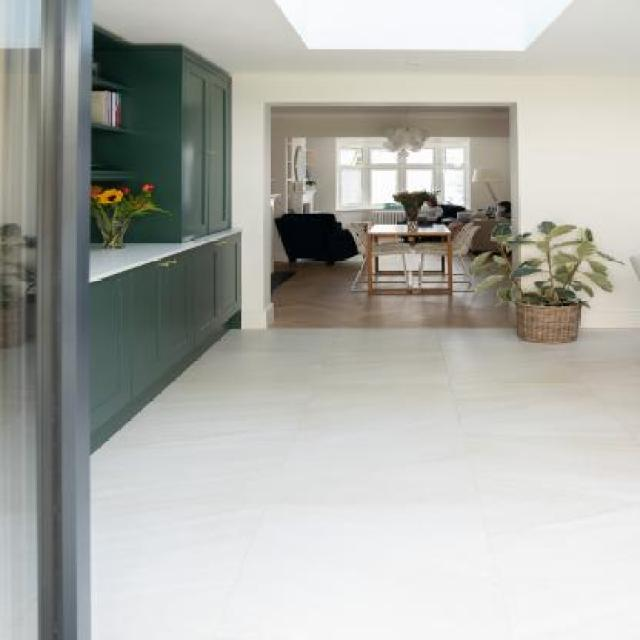floor: (89, 259, 640, 640)
